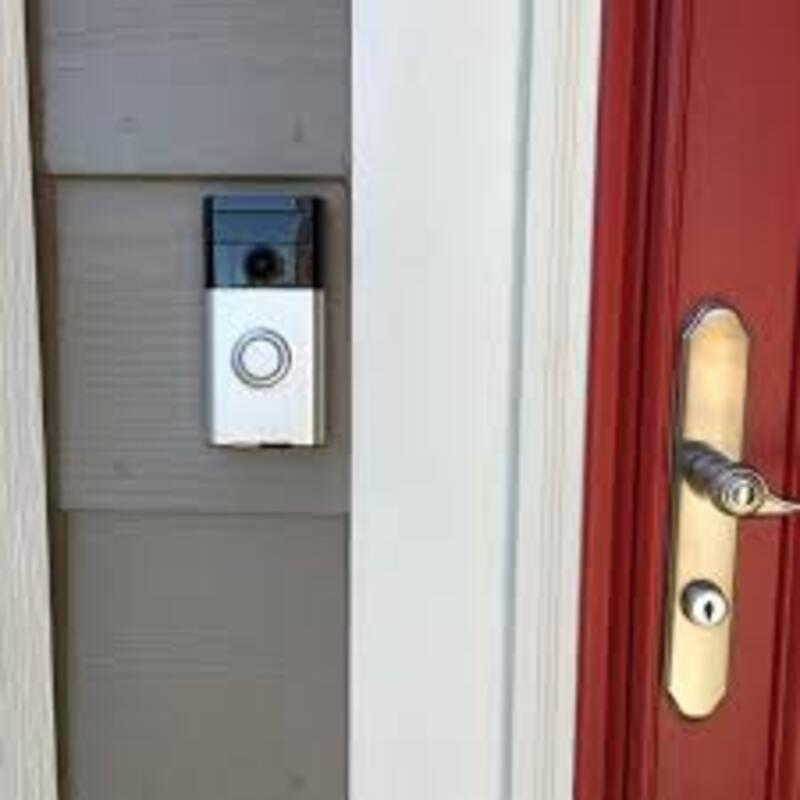doorbell: (194, 185, 340, 465)
